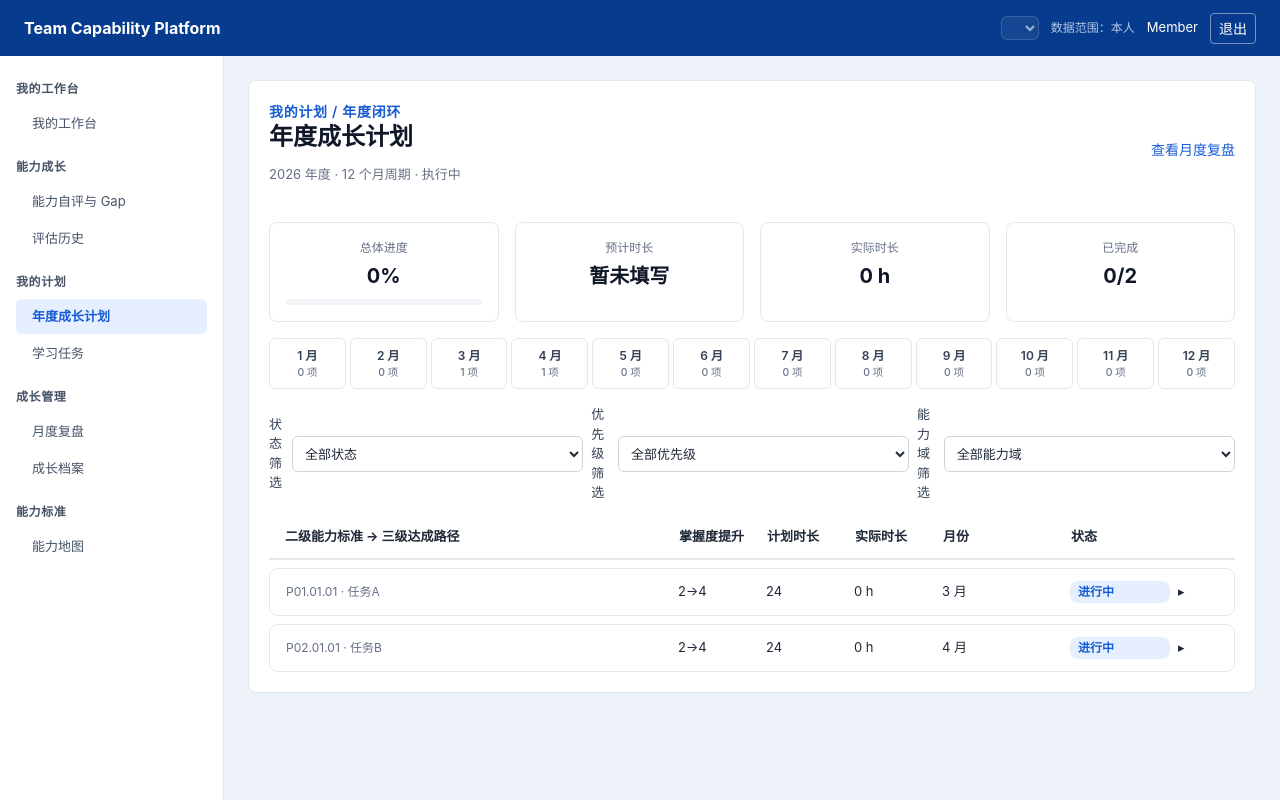
Scenario: AnnualPlanTaskPage display › month filter shows only selected month items
Check: the heading "年度成长计划" is shown, box [269,122,413,151]
Click the button "3 月 1 项" at (469, 363), box [431,338,508,389]
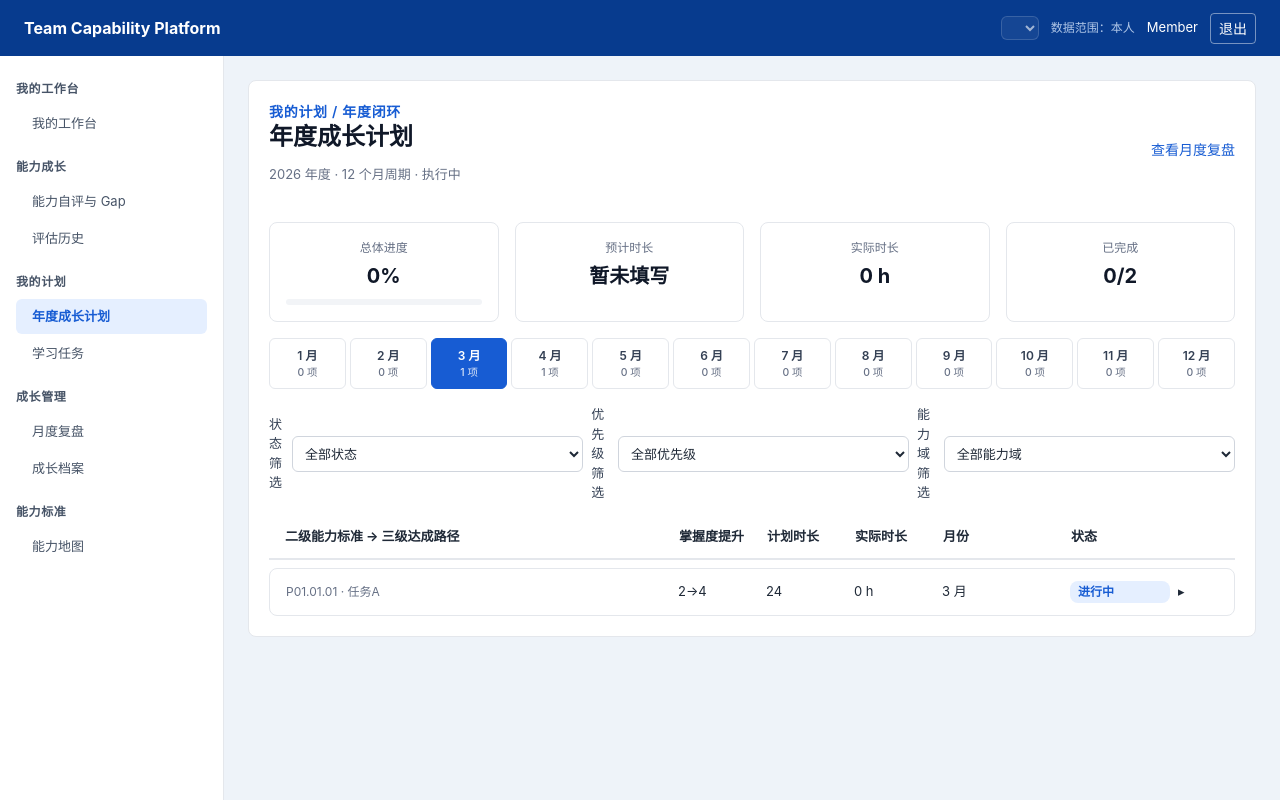
Check: the text "P01.01.01 · 任务A" is shown, box [286,584,380,599]
Check: the button "P02.01.01 · 任务B" is gone
